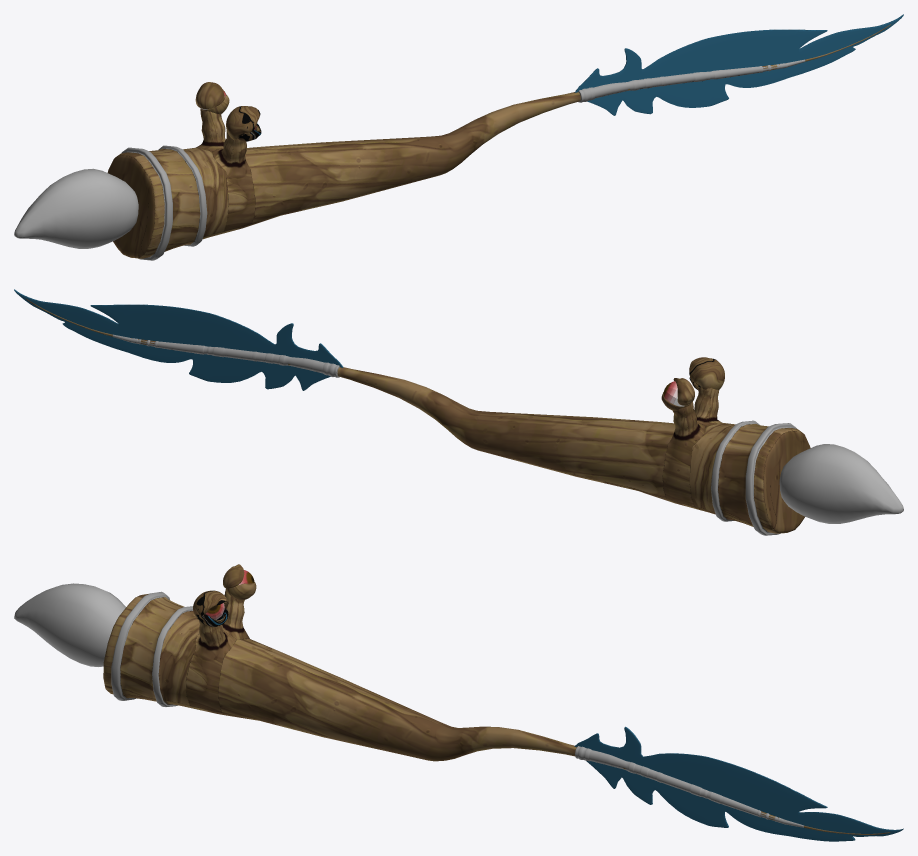
Rendered from PinceauFINAL2.fbx.
3 renders of one model, top to bottom at view 1: azimuth 30°, elevation 25°; view 2: azimuth 150°, elevation 25°; view 3: azimuth 330°, elevation 25°, orthographic.
Visible parts, largest first — view 1: Stylo1_StyloPlume_polySurface12, polySurface10, pCube2, pasted__pasted__polySurface19, pSphere4, pSphere8; view 2: Stylo1_StyloPlume_polySurface12, polySurface10, pCube2, pasted__pasted__polySurface19, pSphere4; view 3: Stylo1_StyloPlume_polySurface12, polySurface10, pCube2, pasted__pasted__polySurface19, pSphere4.
Boxes of the visible parts, x1,y1,x2,y2 form: Stylo1_StyloPlume_polySurface12: (107, 24, 890, 260); polySurface10: (574, 14, 903, 115); pCube2: (14, 168, 138, 248); pasted__pasted__polySurface19: (575, 59, 805, 102); pSphere4: (226, 106, 260, 140); pSphere8: (195, 82, 224, 108); Stylo1_StyloPlume_polySurface12: (26, 299, 810, 535); polySurface10: (14, 289, 343, 390); pCube2: (779, 444, 903, 523); pasted__pasted__polySurface19: (112, 334, 339, 377); pSphere4: (689, 357, 724, 389); Stylo1_StyloPlume_polySurface12: (103, 590, 890, 834); polySurface10: (574, 726, 903, 841); pCube2: (14, 583, 125, 666); pasted__pasted__polySurface19: (575, 746, 803, 827); pSphere4: (193, 590, 228, 619).
Bounding box in the file's own units: 16.46 × 2.51 × 1.79.
